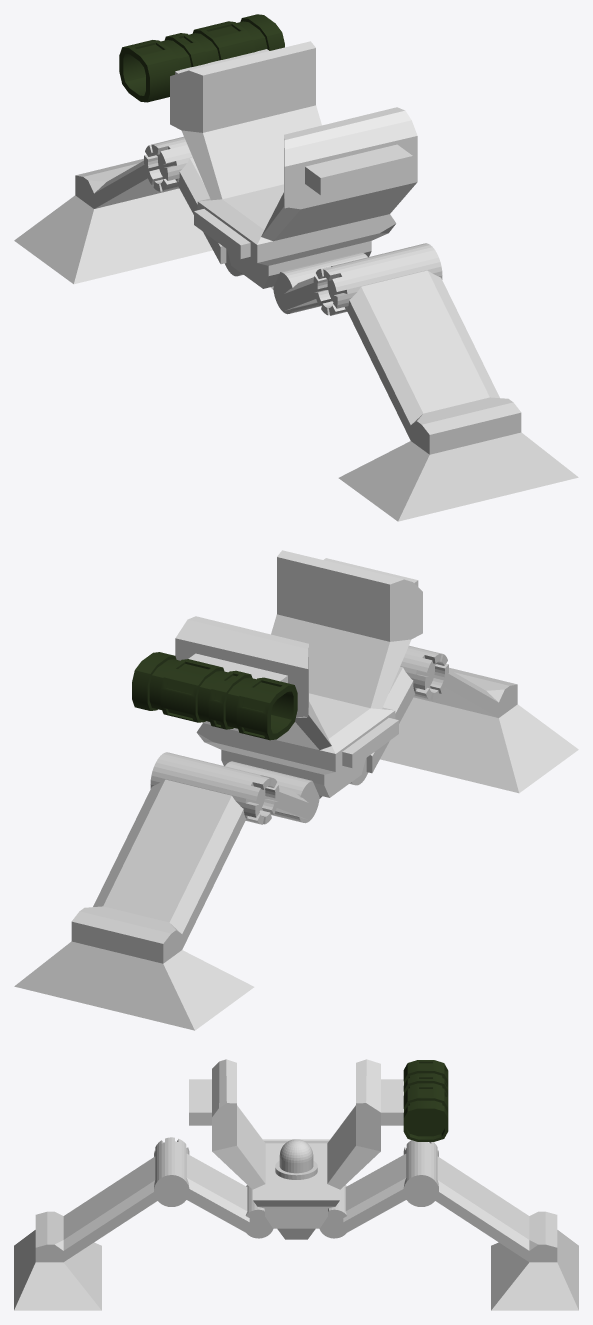
Rendered from enemigoinspiradoenelrex1.fbx.
3 renders of one model, top to bottom at view 1: azimuth 30°, elevation 25°; view 2: azimuth 150°, elevation 25°; view 3: azimuth 270°, elevation 25°, orthographic. The views are drawn at different scales.
Visible parts, largest first — view 1: Cube.001, Cube, misil, Cylinder.002, Cylinder.001; view 2: Cube.001, Cube, misil, Cylinder.002, Cylinder.001; view 3: Cube.001, Cube, Cylinder.002, misil, Cylinder.001, Sphere, Cylinder.
Part boxes in pixels (box(x1,y1,x2,y2)): Cube.001: box(14, 157, 578, 521); Cube: box(170, 41, 417, 289); misil: box(119, 14, 284, 102); Cylinder.002: box(144, 136, 442, 315); Cylinder.001: box(225, 249, 367, 314); Cube.001: box(14, 666, 578, 1030); Cube: box(175, 550, 422, 798); misil: box(132, 652, 297, 740); Cylinder.002: box(150, 645, 448, 824); Cylinder.001: box(225, 758, 367, 823); Cube.001: box(14, 1154, 578, 1310); Cube: box(189, 1059, 403, 1239); Cylinder.002: box(154, 1137, 438, 1206); misil: box(403, 1060, 448, 1141); Cylinder.001: box(245, 1185, 347, 1238); Sphere: box(279, 1139, 313, 1173); Cylinder: box(275, 1161, 317, 1179).
Size of the model in its own units: 472 by 669 by 1734.
